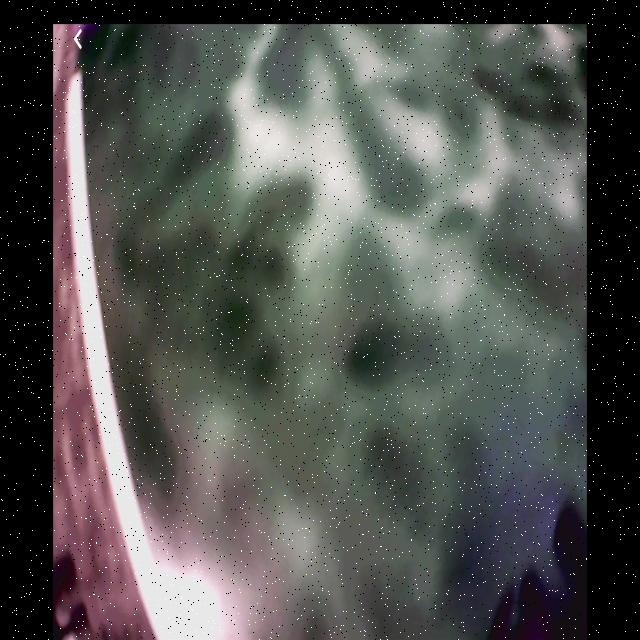ball: (78, 24, 102, 54)
